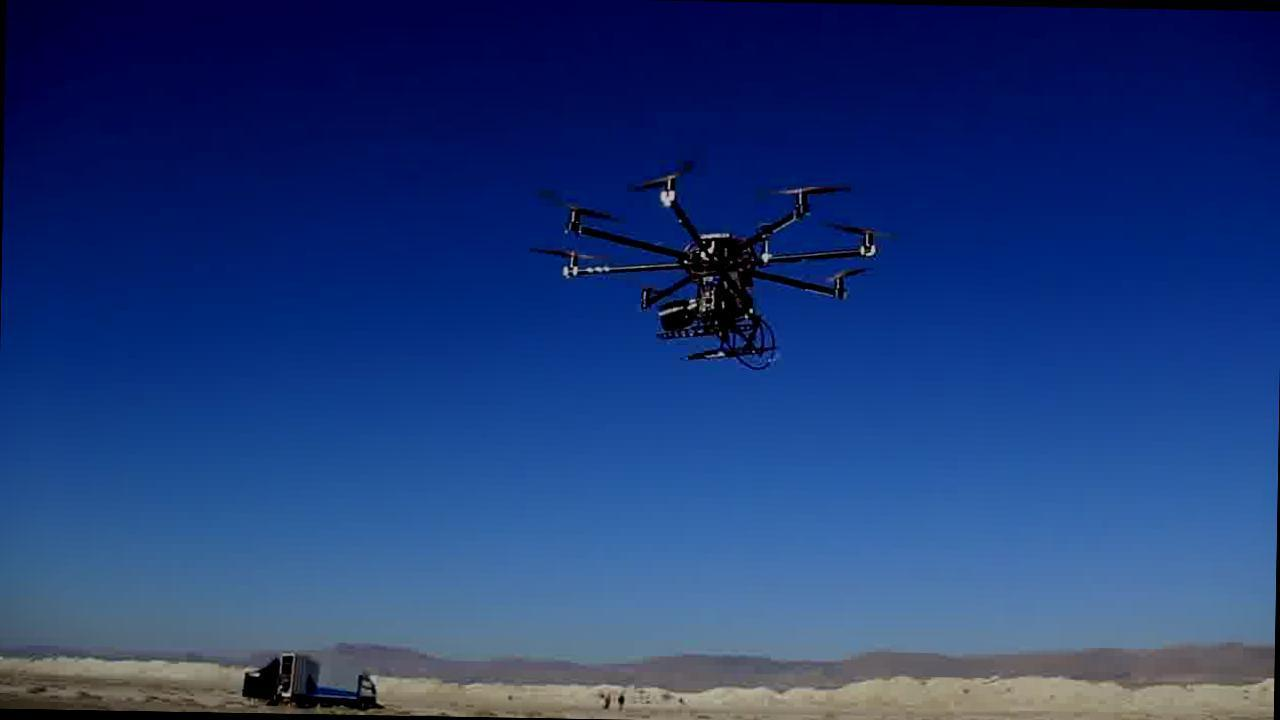drone: (527, 157, 901, 367)
